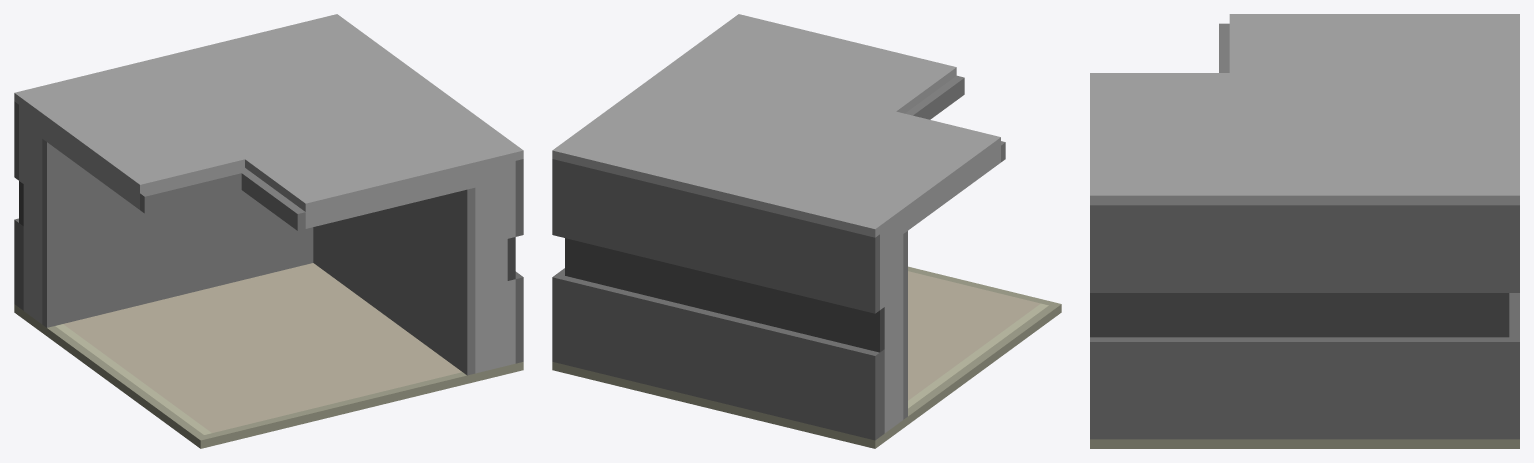
Rendered from Mesa_Curva.obj.
3 views of the same model, side by side, from view 1: azimuth 30°, elevation 25°; view 2: azimuth 150°, elevation 25°; view 3: azimuth 270°, elevation 25° (orthographic). The views are drawn at different scales.
Size of the model in its own units: 40 by 26 by 40.
Materials: 1 (1 with a texture image).
